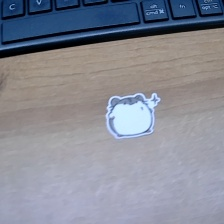mouse: (102, 93, 163, 141)
